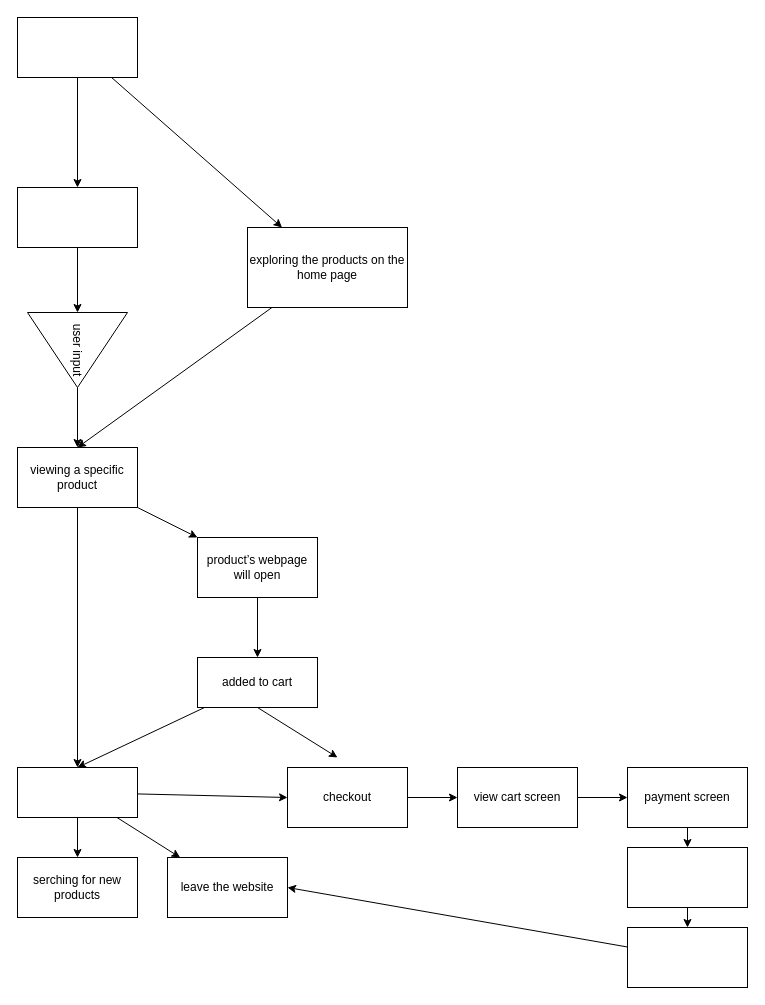
Some shapes in this 765 by 1005 pixel diagram are drawn without their labels. Here are the shapes that lost their labels. From the top down, the centre of each, then its label:
(77,47): Enter the Website
(77,217): searching for a product
(77,792): continue shopping
(687,877): give payment information
(687,957): order confirmation by email
